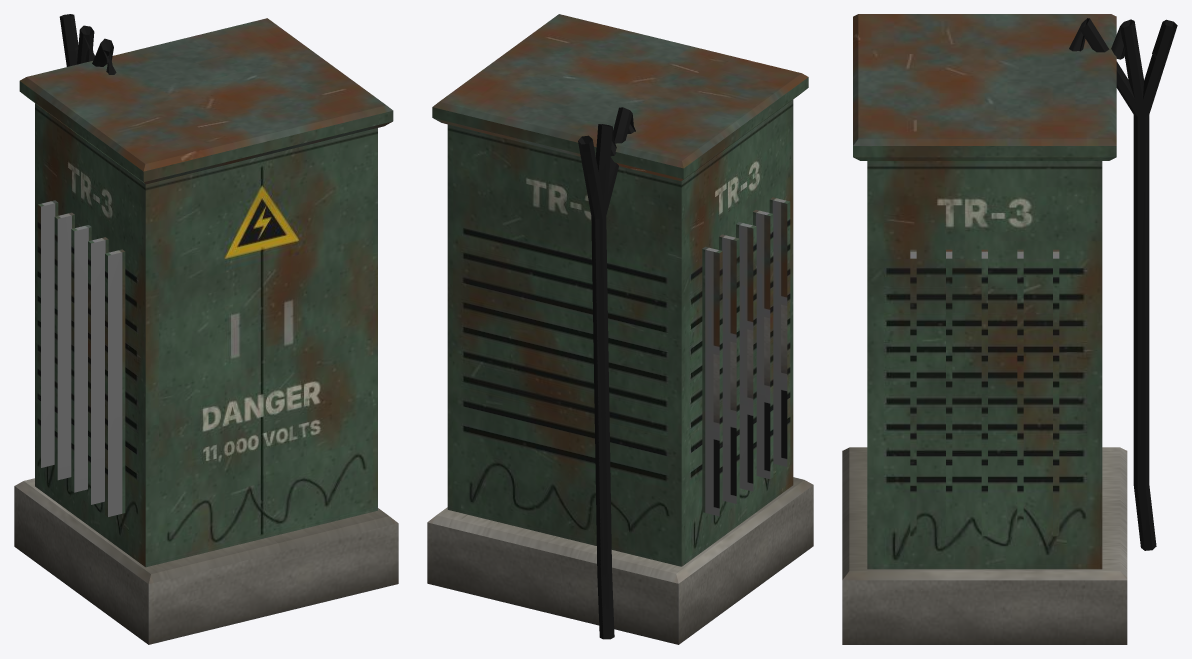
File: prop_pillar_cabinet-Dyo4zW4I.glb
The picture shows the model from 3 angles, left to right: view 1: azimuth 30°, elevation 25°; view 2: azimuth 150°, elevation 25°; view 3: azimuth 270°, elevation 25°; orthographic projection. The views are drawn at different scales.
Visible parts, largest first — view 1: prop_pillar_cabinet_body; view 2: prop_pillar_cabinet_body; view 3: prop_pillar_cabinet_body.
Boxes of the visible parts, box(x1,y1,x2,y2) form: prop_pillar_cabinet_body: box(14, 14, 398, 644); prop_pillar_cabinet_body: box(427, 14, 813, 644); prop_pillar_cabinet_body: box(842, 14, 1177, 644).
Size of the model in its own units: 0.92 by 1.66 by 0.9412.
Materials: 1 (1 with a texture image).
